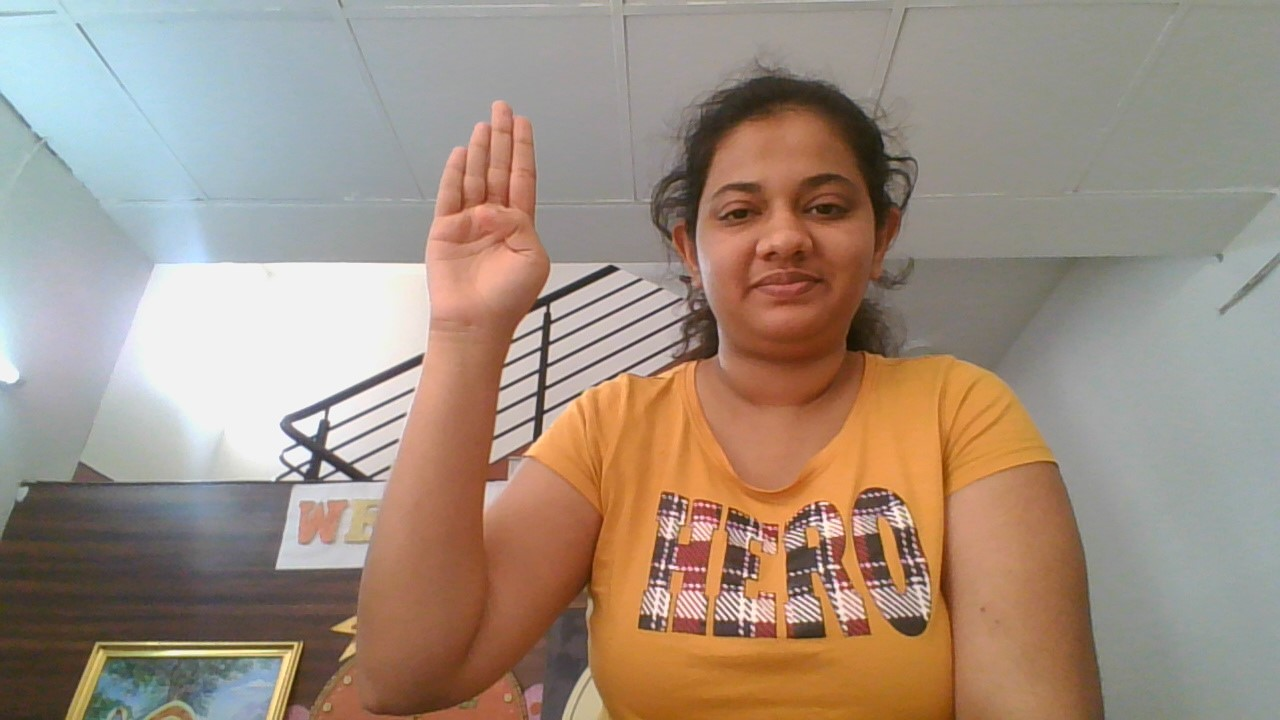b: (416, 82, 560, 362)
